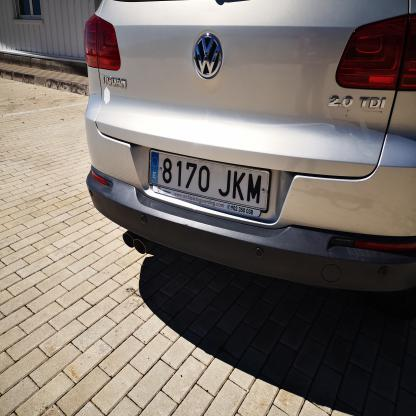patente: (147, 150, 271, 213)
